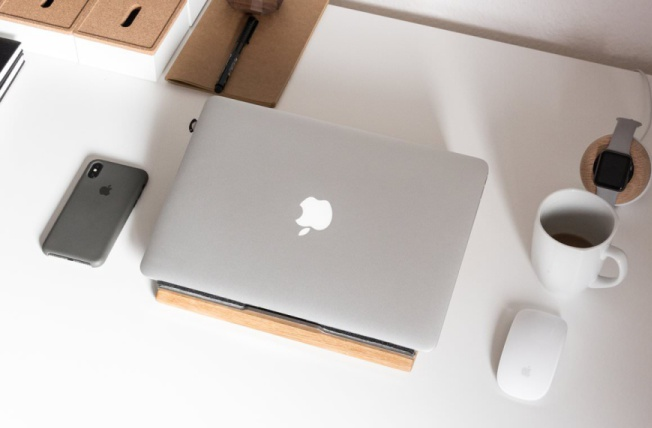apple: (281, 183, 354, 241), (95, 178, 118, 203)
